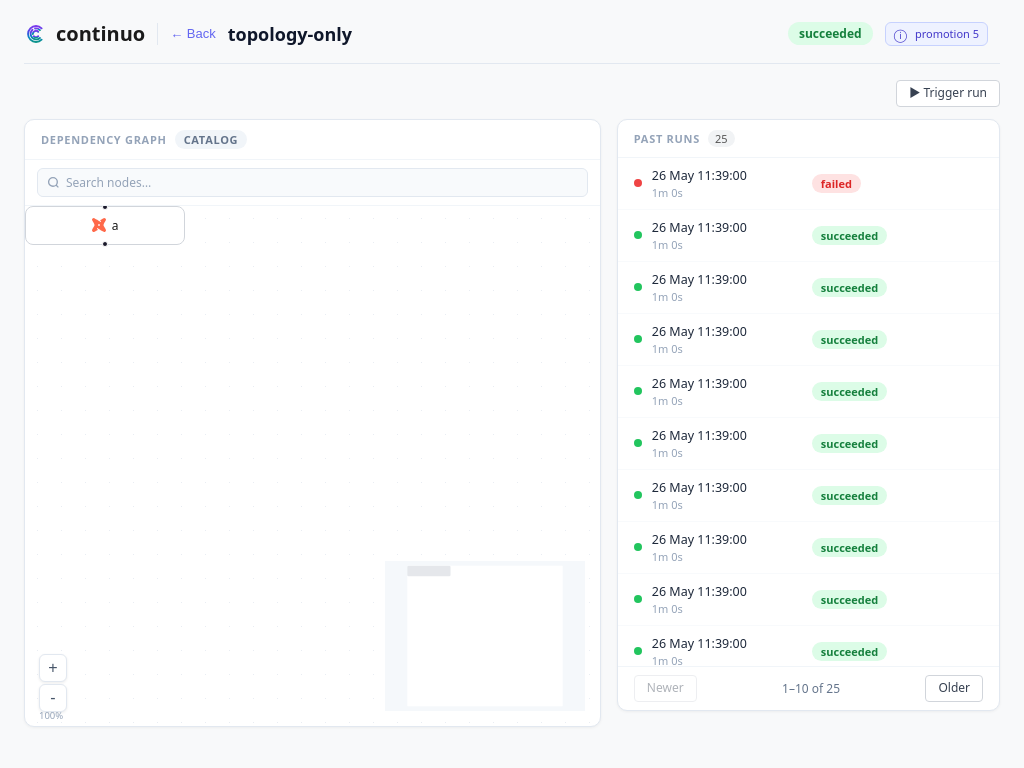
Test case: DetailPage in latest mode — Past Runs paging › keeps describing a selected run after paging away from its page
The image size is (1024, 768).
# The first row is the failed run 0.
Click the button with class "run-row" showing "26 May 11:39:00 1m 0s failed".
click(699, 175)  # box [618,158,999,210]
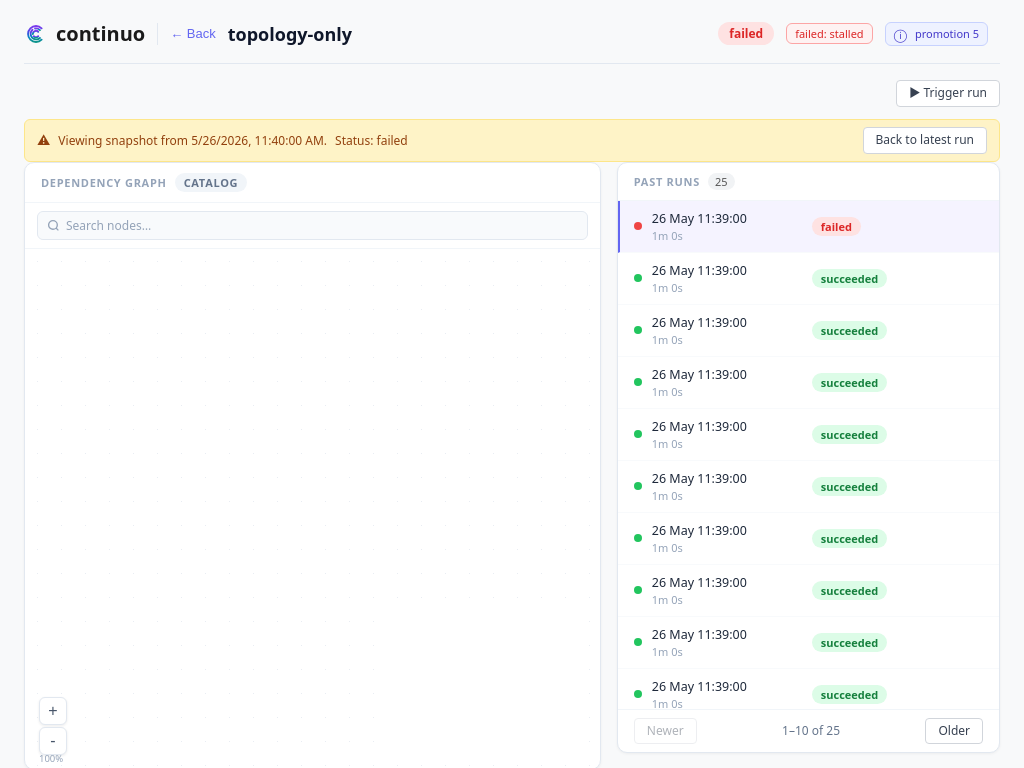
Now the text "failed" next to "failed: stalled" is shown, box [729,25,763,42]
Click the button "Older".
click(954, 731)  # box [925,718,983,744]
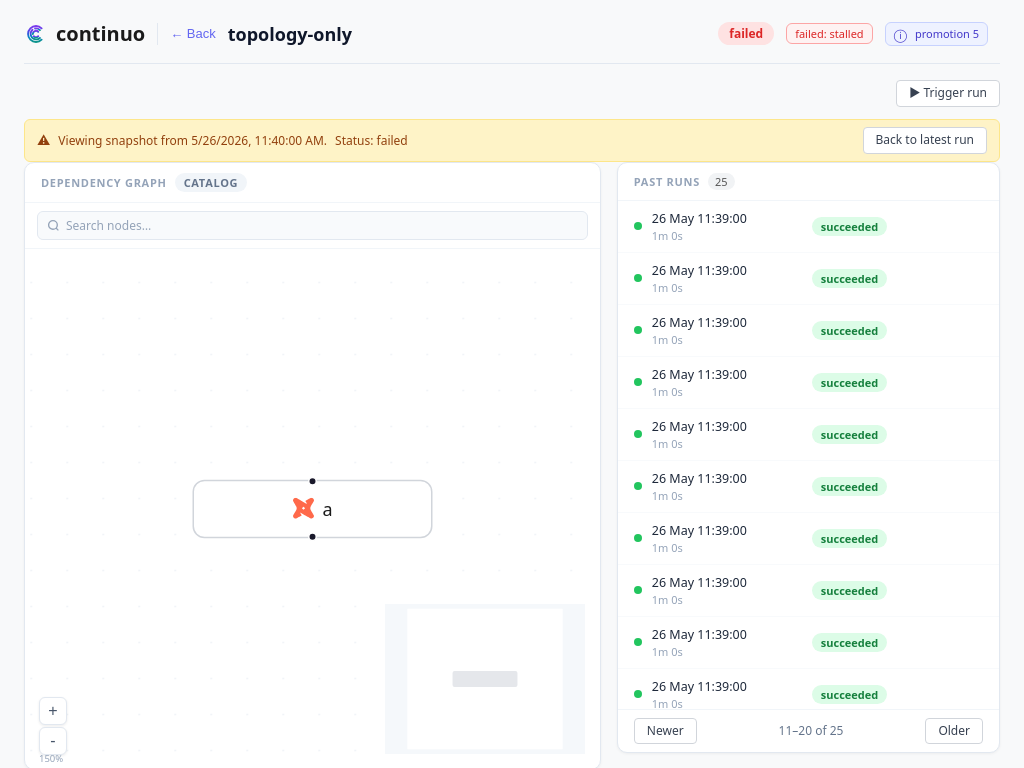
Now the text "failed" is shown, box [718,22,774,45]
Now the text "11–20 of 25" is shown, box [779,722,844,740]
